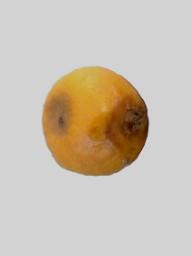Unripe: (43, 67, 149, 177)
